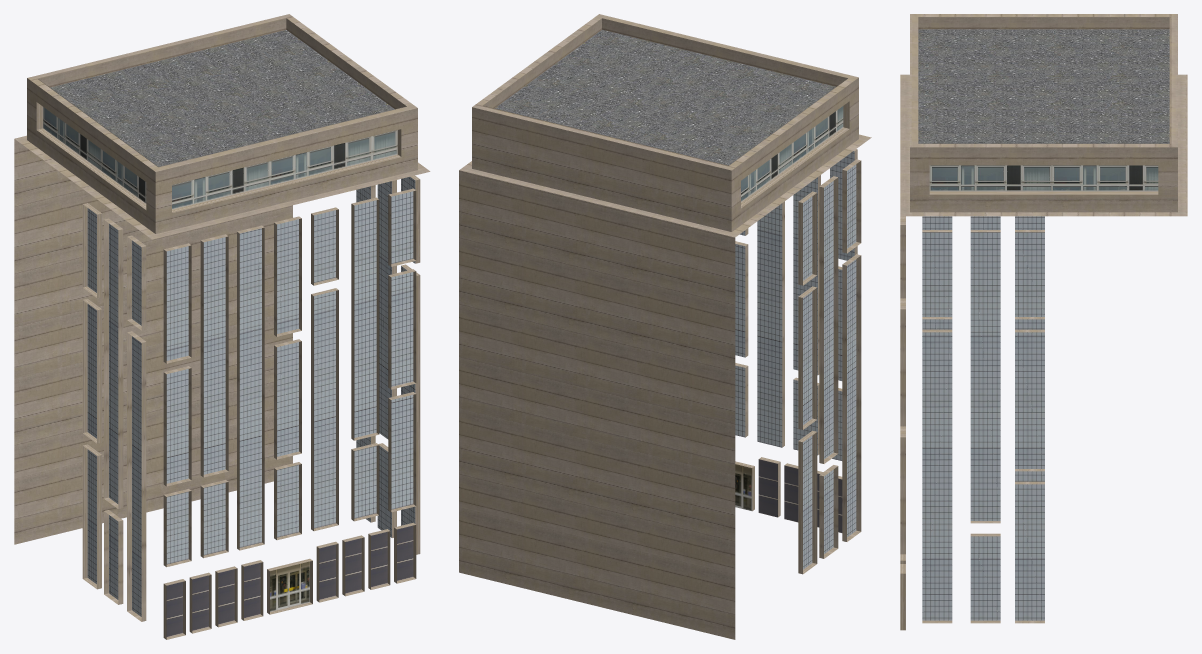
File: Build11_dae.dae
The picture shows the model from 3 angles, left to right: view 1: azimuth 30°, elevation 25°; view 2: azimuth 150°, elevation 25°; view 3: azimuth 270°, elevation 25°; orthographic projection. The views are drawn at different scales.
Visible parts, largest first — view 1: Building11; view 2: Building11; view 3: Building11.
Boxes of the visible parts, x1=… form: Building11: x1=14, y1=14, x2=430, y2=639; Building11: x1=459, y1=14, x2=871, y2=639; Building11: x1=900, y1=14, x2=1187, y2=630.
Size of the model in its own units: 139 by 223 by 119.
Materials: 1 (1 with a texture image).
